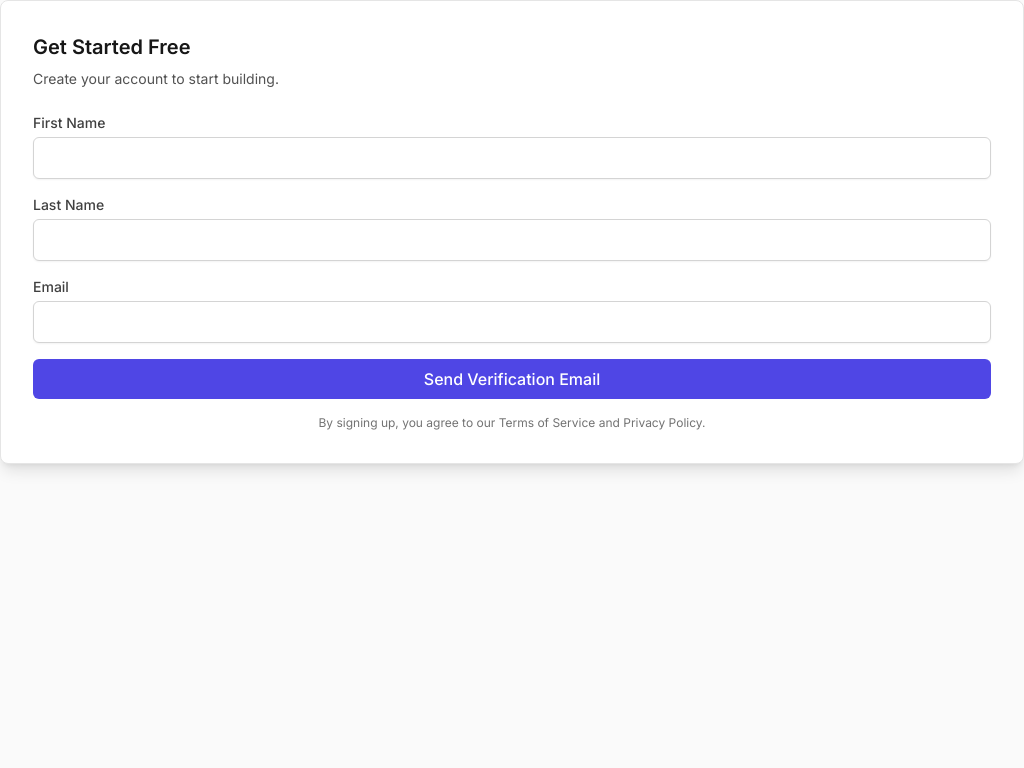
Test case: RegistrationFormEmbed › Form Validation › clears error when user starts typing
# Trigger validation error
Click the button "Send Verification Email" at (512, 379), box [33, 359, 991, 399]
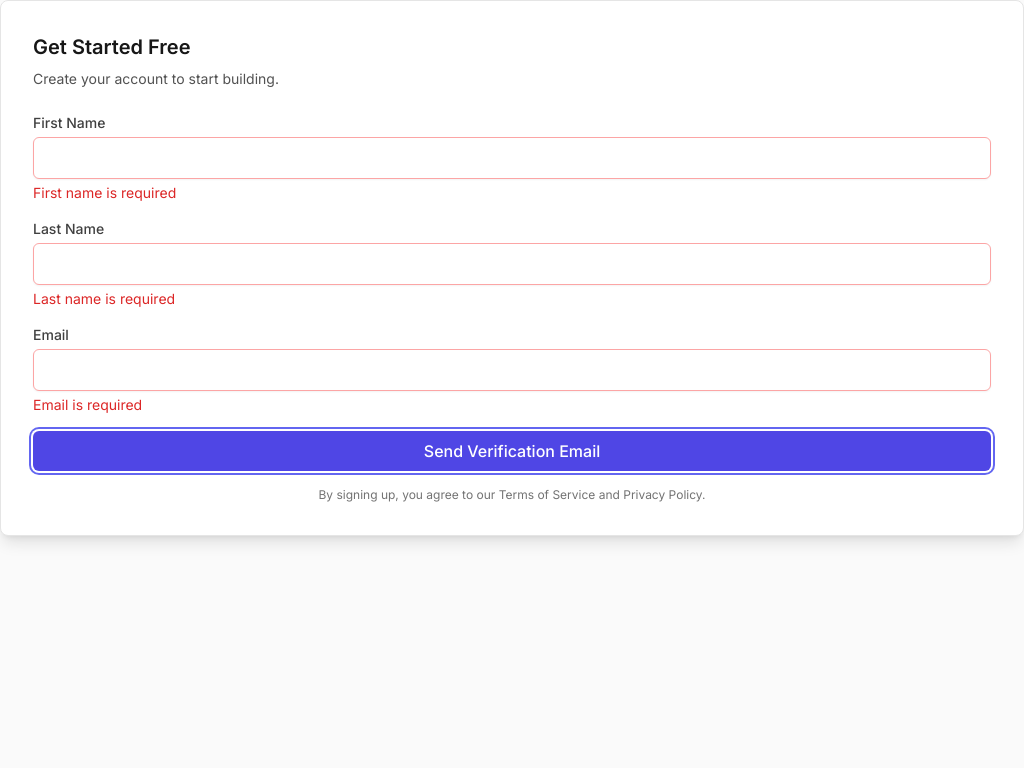
Expected: the text "First name is required" is shown, [33, 184, 176, 201]
# Start typing in first name
Type "J" into the field labelled "First Name" at (512, 158), box [33, 137, 991, 179]
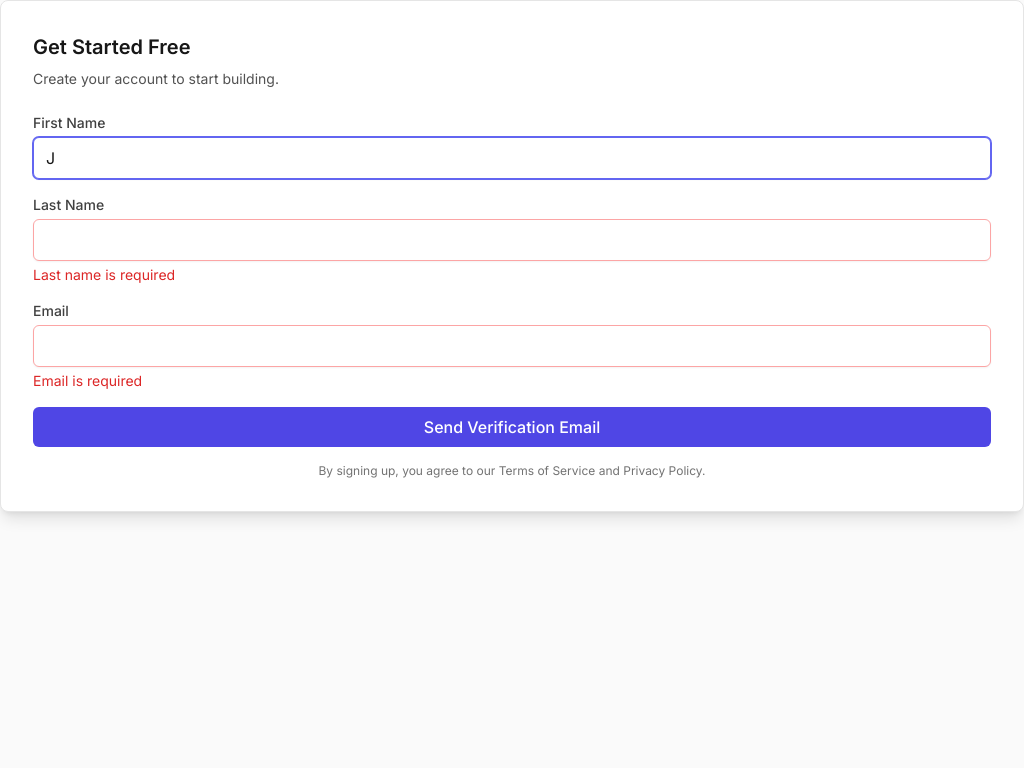
Expected: the text "First name is required" is gone
